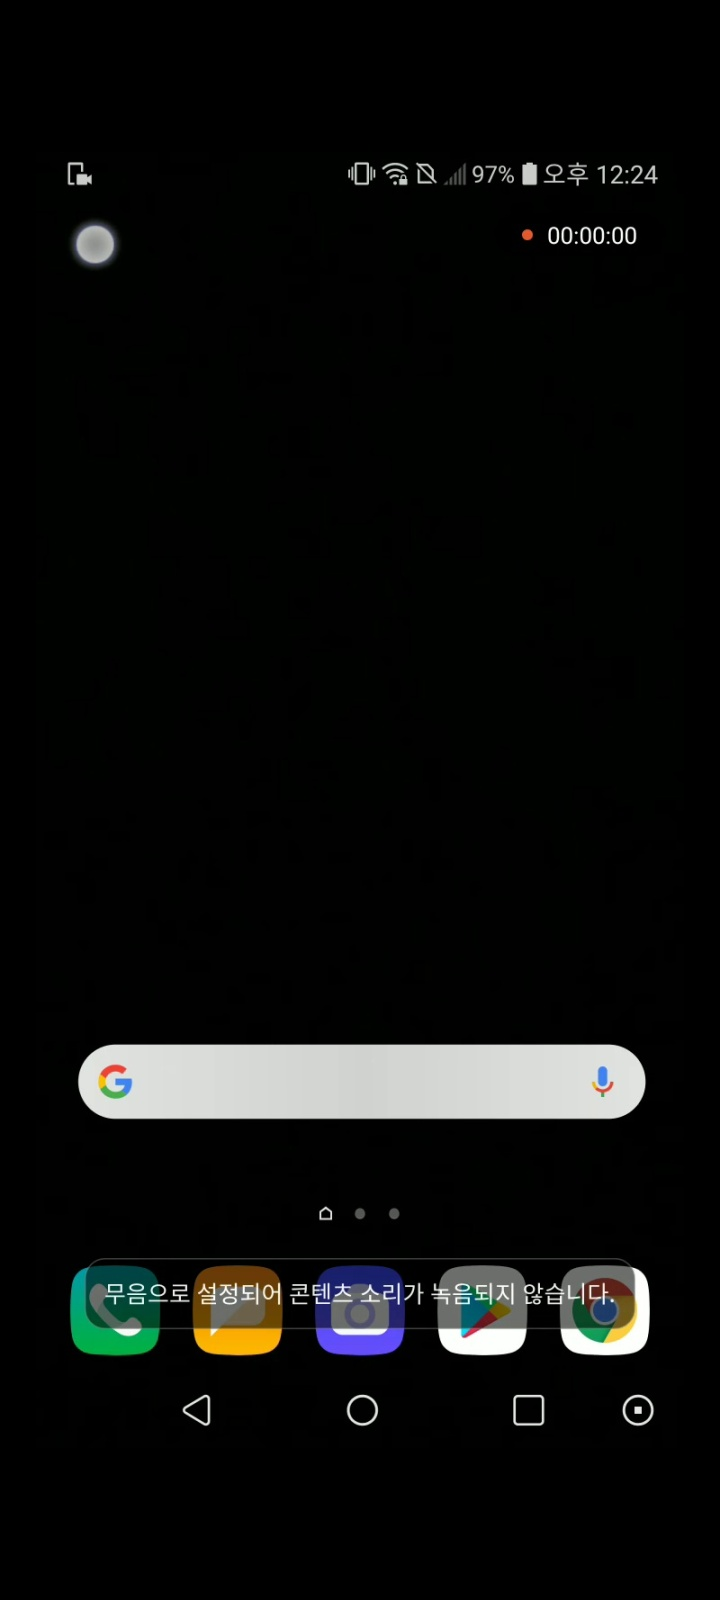Cursor: (72, 224, 117, 269)
